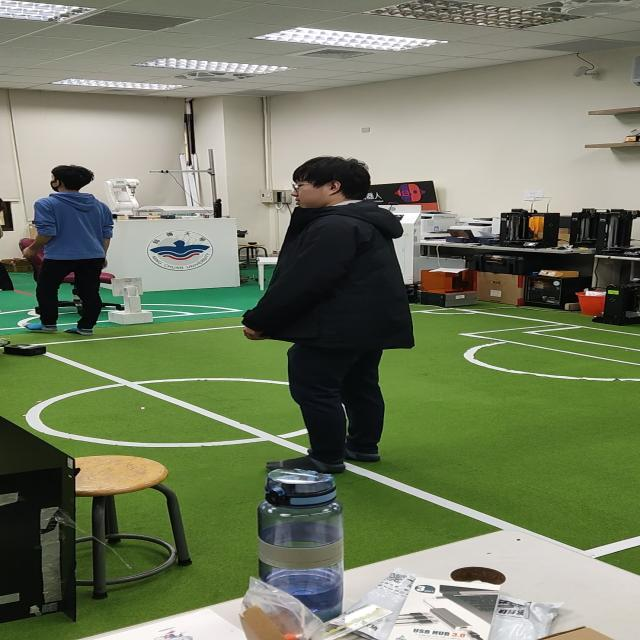person: (239, 144, 442, 463), (16, 157, 126, 340)
